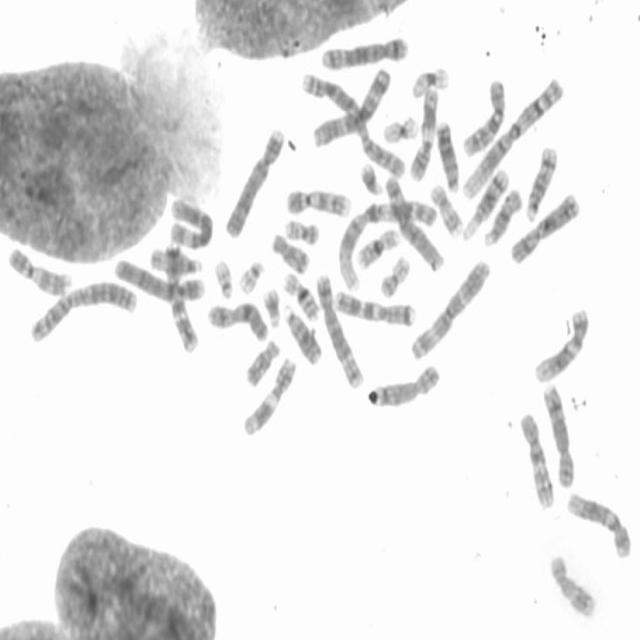A1: (462, 77, 563, 202), (336, 200, 438, 292)
A2: (299, 72, 406, 180), (29, 282, 139, 344)
A3: (410, 258, 490, 360), (311, 64, 393, 150)
B4: (224, 128, 286, 240), (115, 257, 207, 304)
B5: (314, 273, 365, 389), (321, 37, 409, 73)
C10: (518, 412, 557, 512), (462, 78, 506, 159)
C11: (243, 357, 296, 438), (408, 86, 438, 183)
C12: (566, 489, 632, 559), (534, 308, 590, 386)
C6: (383, 176, 446, 274), (169, 197, 214, 250)
C7: (162, 240, 200, 355), (333, 290, 416, 328)
C8: (542, 384, 576, 489), (372, 364, 442, 409)
C9: (6, 246, 72, 298), (286, 188, 354, 219)
D13: (282, 304, 324, 366), (435, 121, 460, 195)
D14: (461, 168, 508, 242), (525, 147, 559, 222)
D15: (482, 186, 524, 247), (150, 248, 203, 277)
E16: (279, 270, 322, 323), (356, 227, 400, 270)
E17: (549, 555, 598, 619), (430, 184, 464, 238)
E18: (244, 338, 281, 388), (272, 232, 311, 275)
F19: (410, 67, 450, 100), (382, 114, 419, 146)
F20: (378, 254, 412, 299), (284, 218, 320, 246)
G21: (262, 287, 282, 331), (359, 162, 384, 196)
G22: (237, 259, 264, 297), (214, 258, 234, 300)
X: (509, 192, 582, 266), (208, 300, 270, 343)
